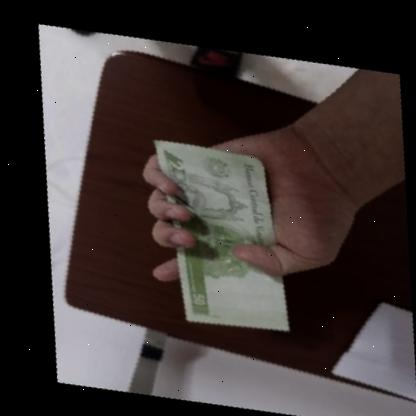vef_back: (112, 119, 319, 349)
